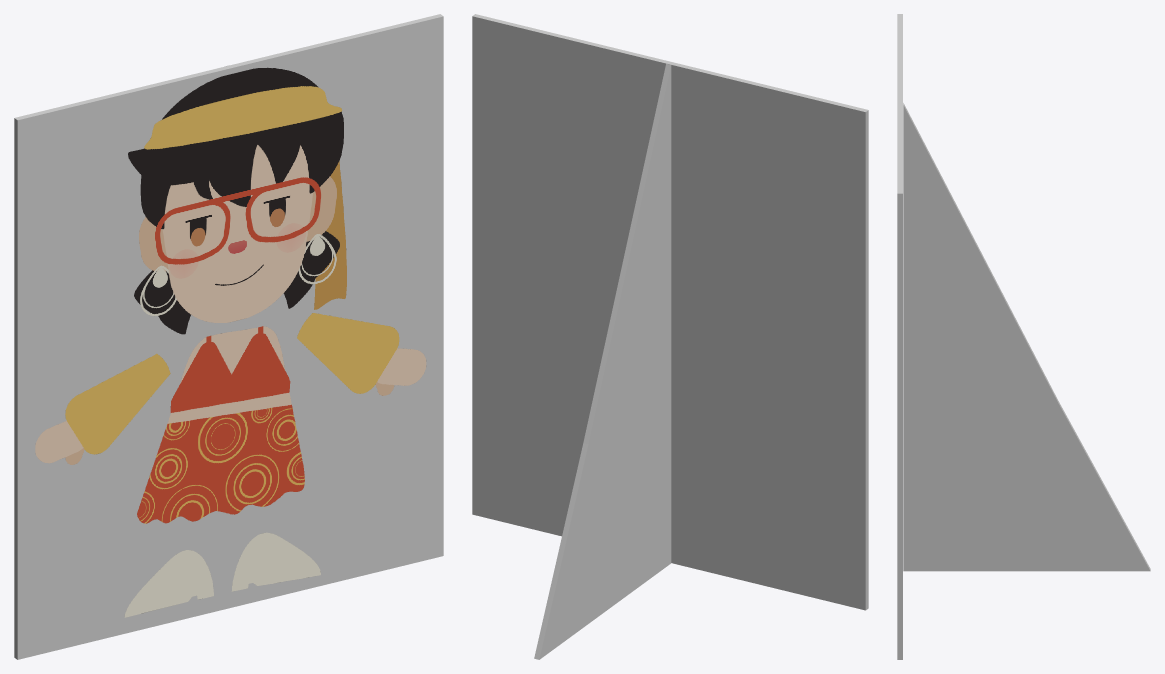
Rendered from Juge_03 1.fbx.
3 views of the same model, side by side, from view 1: azimuth 30°, elevation 25°; view 2: azimuth 150°, elevation 25°; view 3: azimuth 270°, elevation 25° (orthographic). The views are drawn at different scales.
Parts seen in each view (by area): view 1: Juge_02, MicrosoftTeams-image; view 2: Juge_02, Cube.001; view 3: Cube.001, Juge_02.
Boxes of the visible parts, x1,y1,x2,y2 form: Juge_02: (14,14,443,659); MicrosoftTeams-image: (35,67,426,617); Juge_02: (472,14,868,610); Cube.001: (534,63,671,659); Cube.001: (903,103,1150,571); Juge_02: (897,14,902,659).
Bounding box in the file's own units: 230 × 279 × 137.
